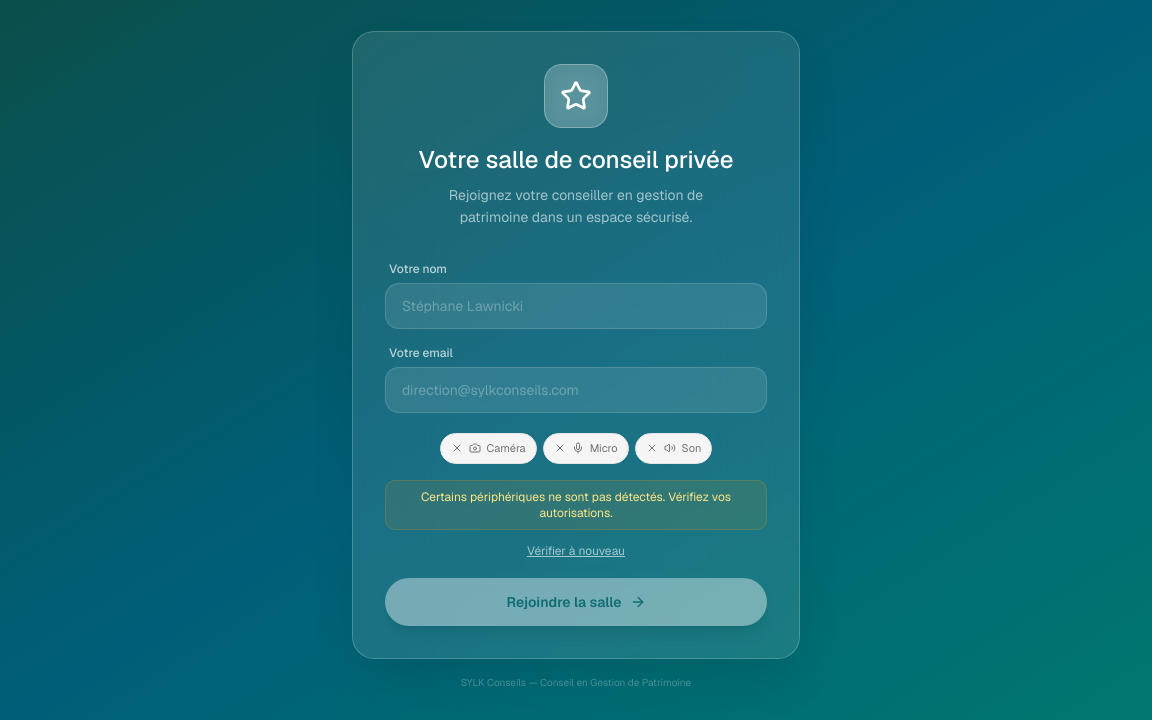
WelcomeScreen — Safari Media Fix › shows error message when getUserMedia fails with NotFoundError
Type "Test User" into the field with placeholder "Stéphane Lawnicki" at coordinates (576, 306), box [385, 283, 767, 329]
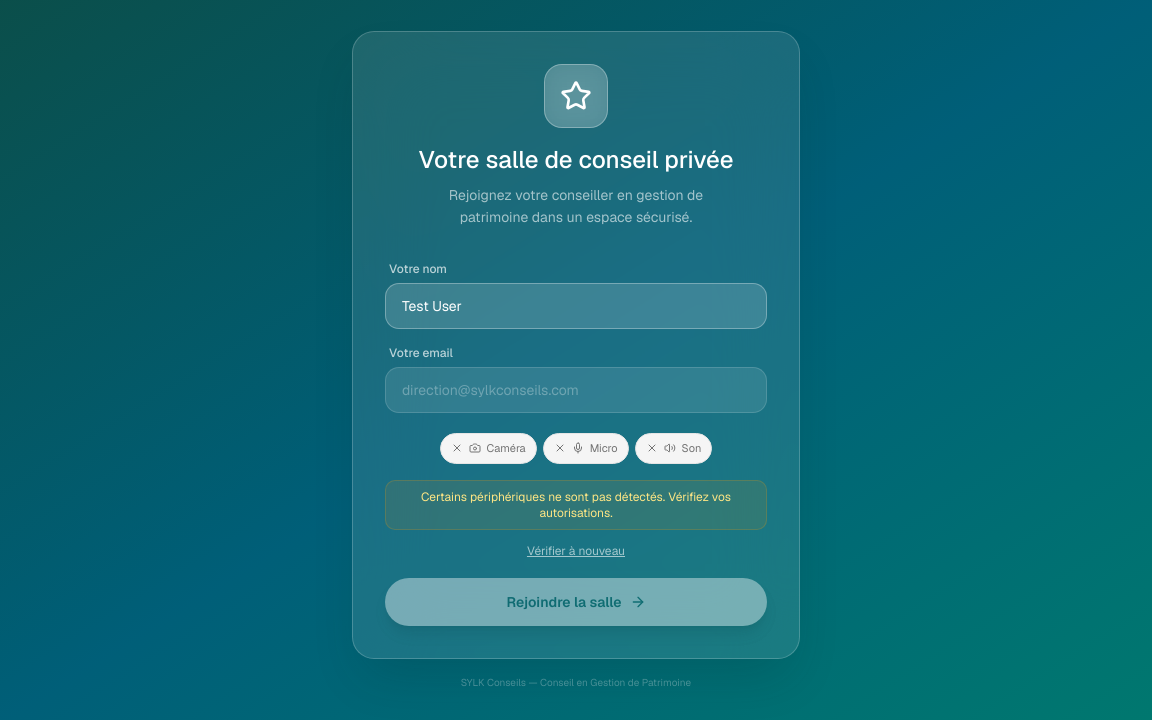
Type "test@test.com" into the field with placeholder "direction@sylkconseils.com" at coordinates (576, 390), box [385, 367, 767, 413]
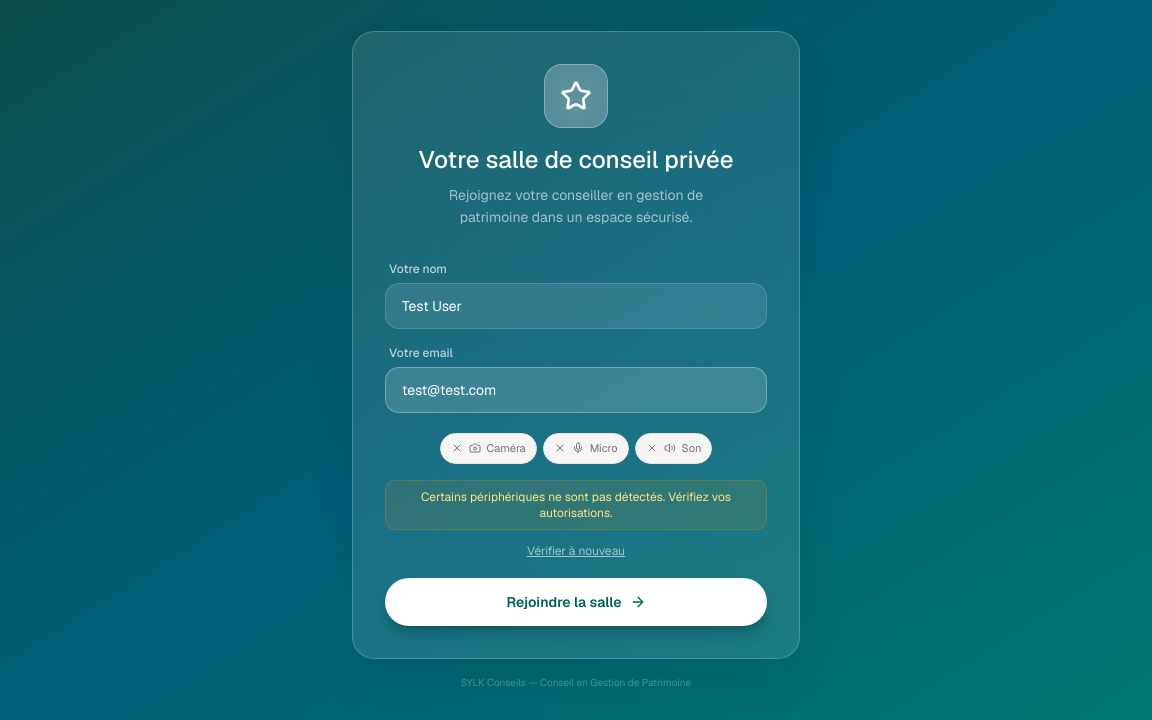
Click the button "Rejoindre la salle" at coordinates (576, 602), box [385, 578, 767, 626]
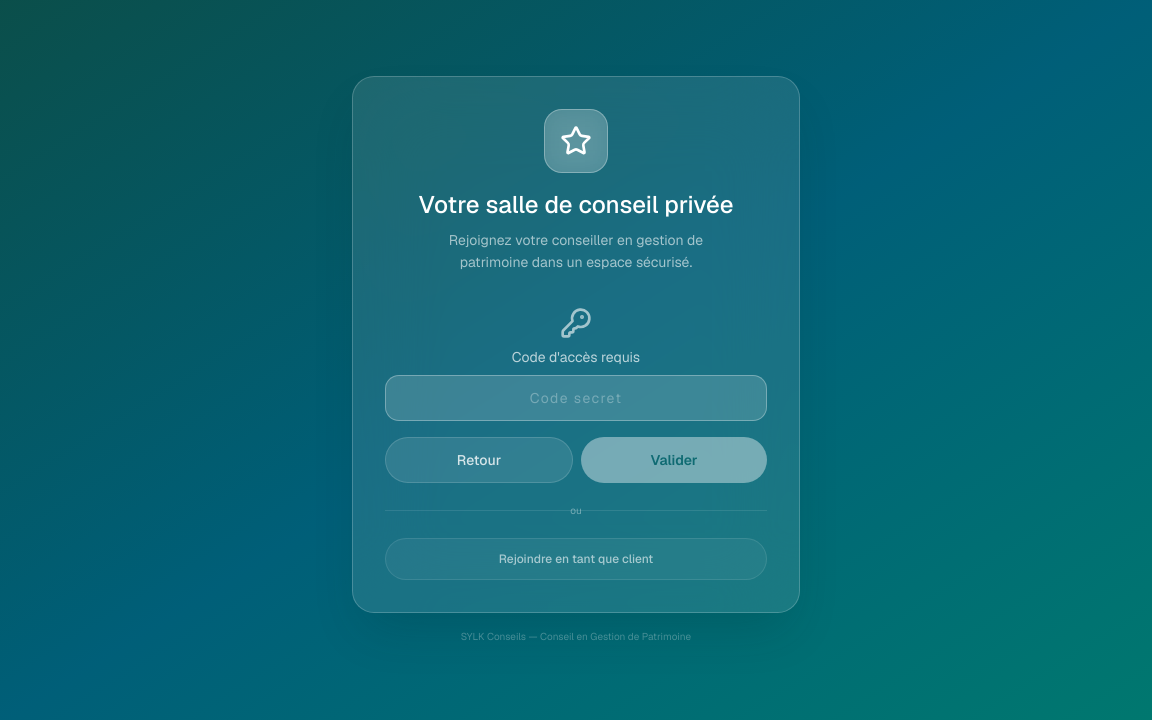
Expected: the password field with placeholder "Code secret" is shown, [385, 375, 767, 421]
Click the button "Retour" at coordinates (479, 460), box [385, 437, 573, 483]
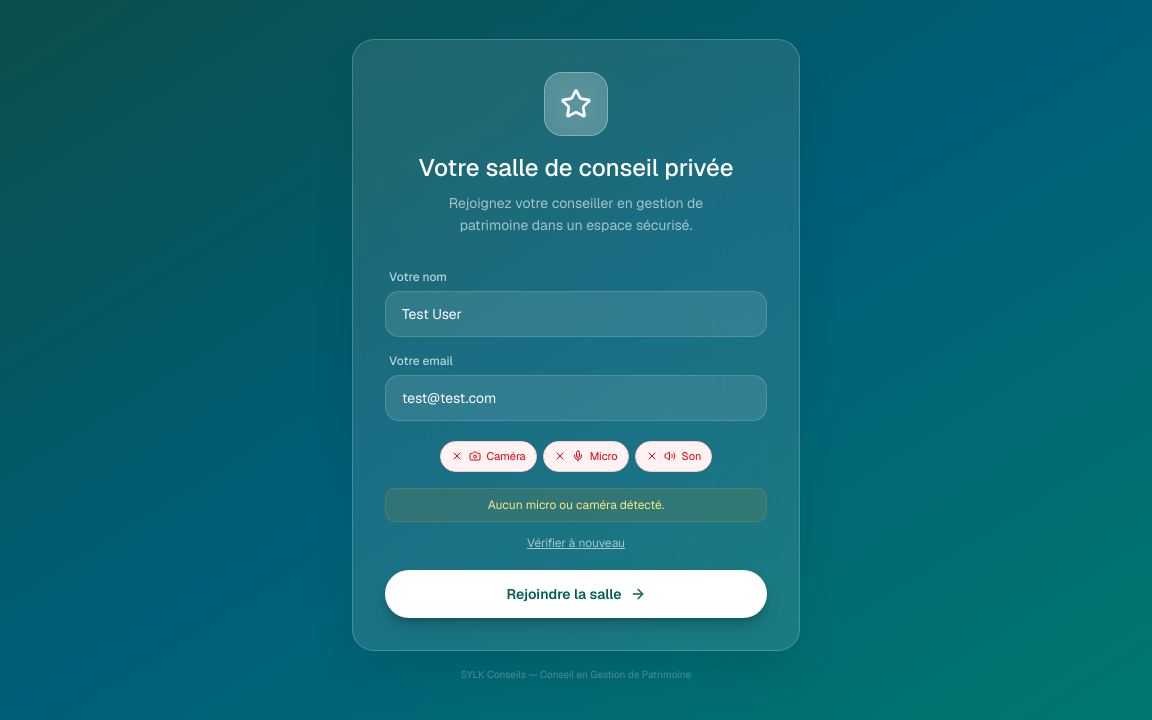
Expected: the text "Aucun micro ou caméra détecté." is shown, [385, 488, 767, 522]
Expected: the button "Vérifier à nouveau" is shown, [385, 534, 767, 550]
